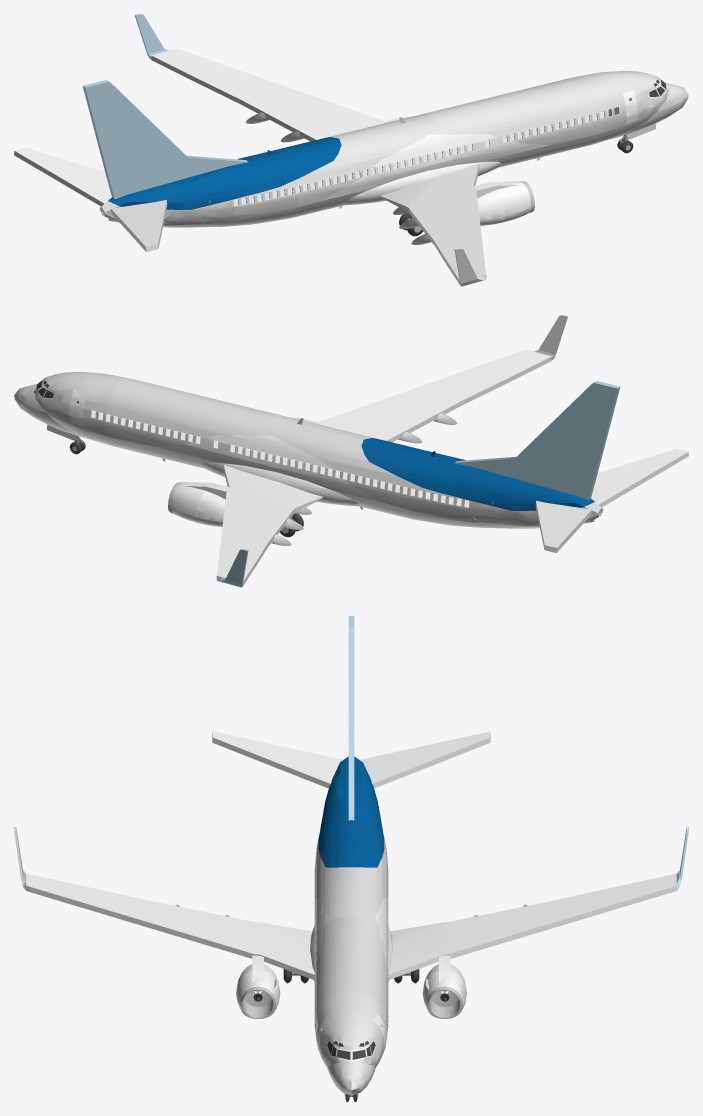
The model's file is aircraft.glb.
3 views of the same model, one above another, from view 1: azimuth 30°, elevation 25°; view 2: azimuth 150°, elevation 25°; view 3: azimuth 270°, elevation 25° (orthographic). The views are drawn at different scales.
Visible parts, largest first — view 1: Union79, Union8, Union15, Union2, Union10, Wedge23, Union5, Union9, Union80, Wedge18, Union64, Union81 (+16 smaller); view 2: Union79, Union8, Union15, Union2, Wedge18, Union10, Union5, Union9, Union81, Wedge23, Union63, Union80 (+18 smaller); view 3: Union8, Union10, Union15, Wedge23, Wedge18, Union81, Union80, Union2, Union64, Union63, Union7, Union79 (+5 smaller).
Part boxes in pixels (<box>): Union79: <box>82,80,248,199</box>; Union8: <box>424,77,598,145</box>; Union15: <box>296,113,443,207</box>; Union2: <box>108,162,251,209</box>; Union10: <box>576,70,669,135</box>; Wedge23: <box>240,70,381,138</box>; Union5: <box>292,134,448,217</box>; Union9: <box>444,133,596,167</box>; Union80: <box>14,147,111,206</box>; Wedge18: <box>409,189,482,248</box>; Union64: <box>379,163,479,212</box>; Union81: <box>111,199,167,251</box>; Union79: <box>454,381,620,500</box>; Union8: <box>104,378,278,446</box>; Union15: <box>259,414,406,508</box>; Union2: <box>451,464,594,510</box>; Wedge18: <box>321,371,462,439</box>; Union10: <box>33,371,126,436</box>; Union5: <box>254,435,410,518</box>; Union9: <box>106,434,258,468</box>; Union81: <box>591,448,688,507</box>; Wedge23: <box>220,490,293,549</box>; Union63: <box>223,465,322,513</box>; Union80: <box>535,500,591,552</box>; Union8: <box>314,914,388,1022</box>; Union10: <box>314,991,388,1066</box>; Union15: <box>314,854,388,924</box>; Wedge23: <box>450,906,608,958</box>; Wedge18: <box>95,906,252,958</box>; Union81: <box>212,731,342,788</box>; Union80: <box>360,731,490,788</box>; Union2: <box>320,756,382,831</box>; Union64: <box>252,921,314,979</box>; Union63: <box>388,921,450,979</box>; Union7: <box>320,838,382,867</box>; Union79: <box>348,616,354,820</box>.
Bounding box in the file's own units: 130 × 40.92 × 119.
